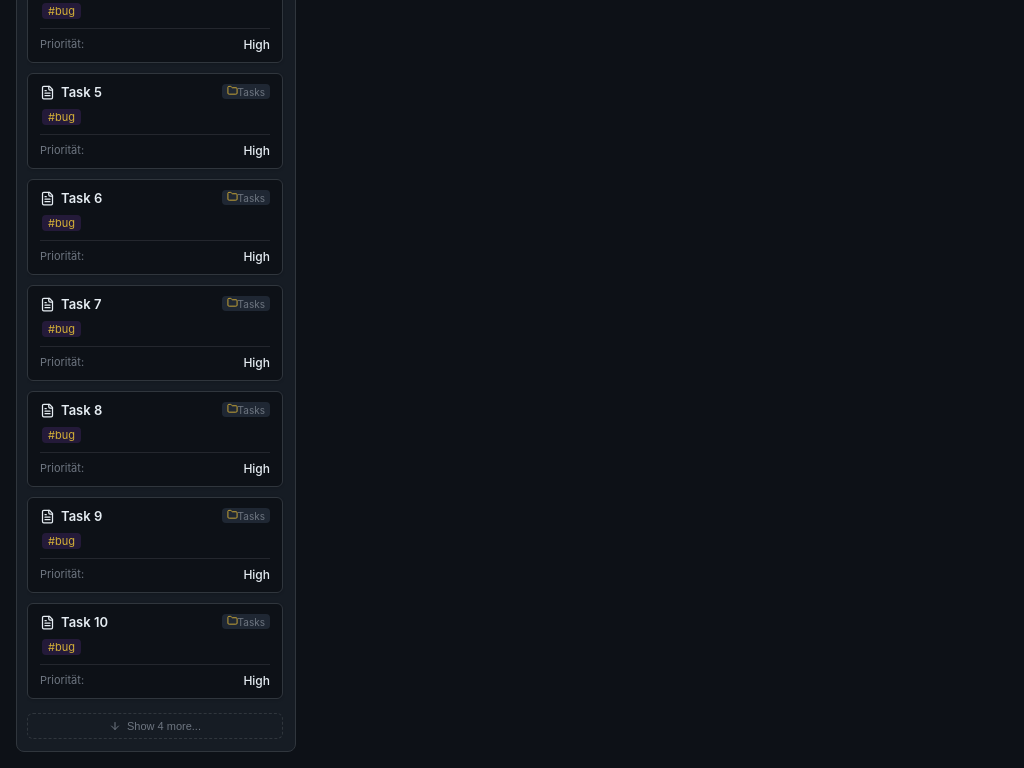
Base Kanban Board View (`type: board`) › renders Kanban columns, enforces columnLimit, and toggles Show More / Fewer
// Click show more
Click the button with class "base-board-show-more-btn": x=155, y=726 x1=27 y1=713 x2=283 y2=739
(page scrolled)
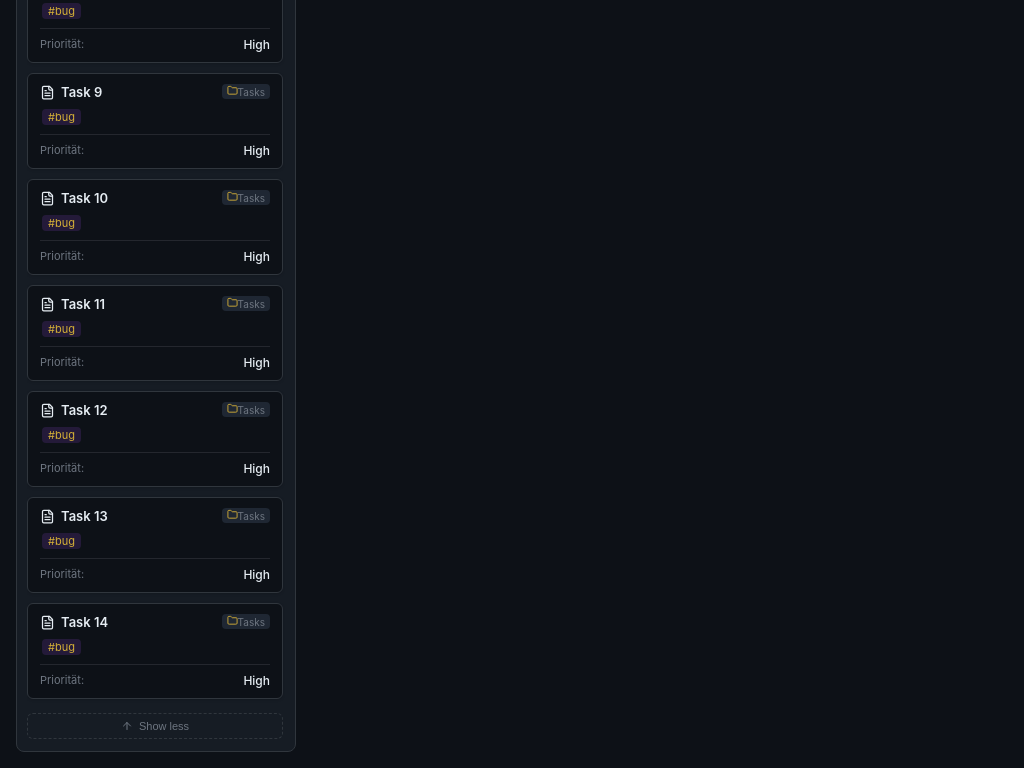
// Click show fewer
Click the button with class "base-board-show-more-btn": x=155, y=726 x1=27 y1=713 x2=283 y2=739
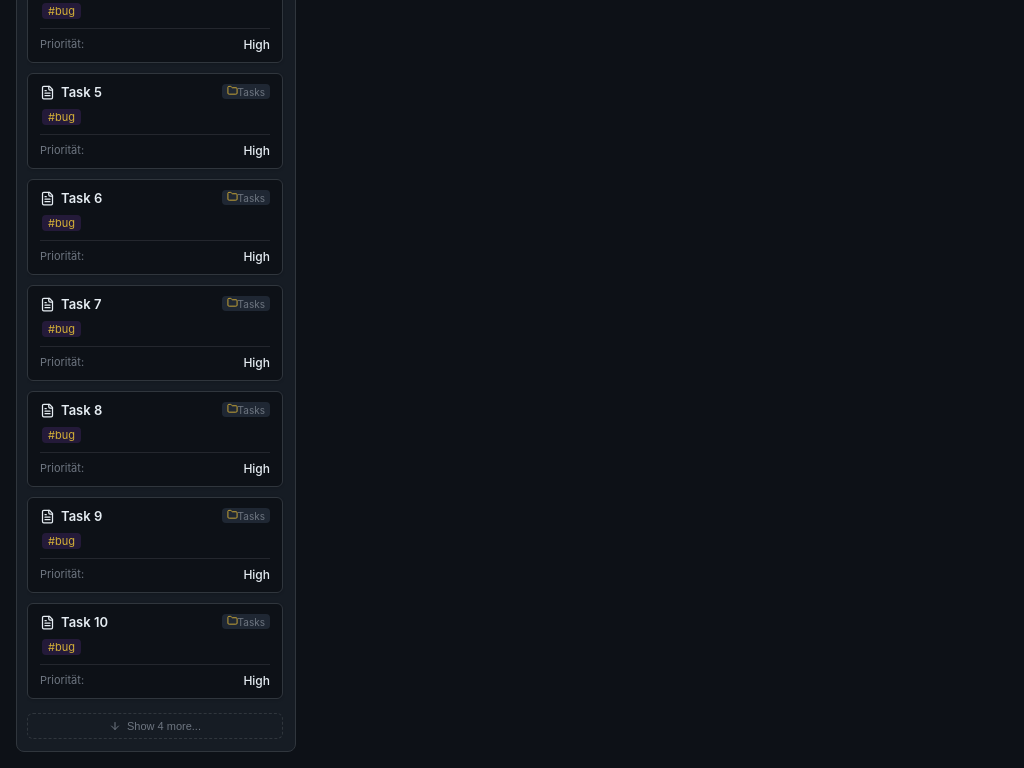
Result: the number of elements with class "base-board-card" is 10
